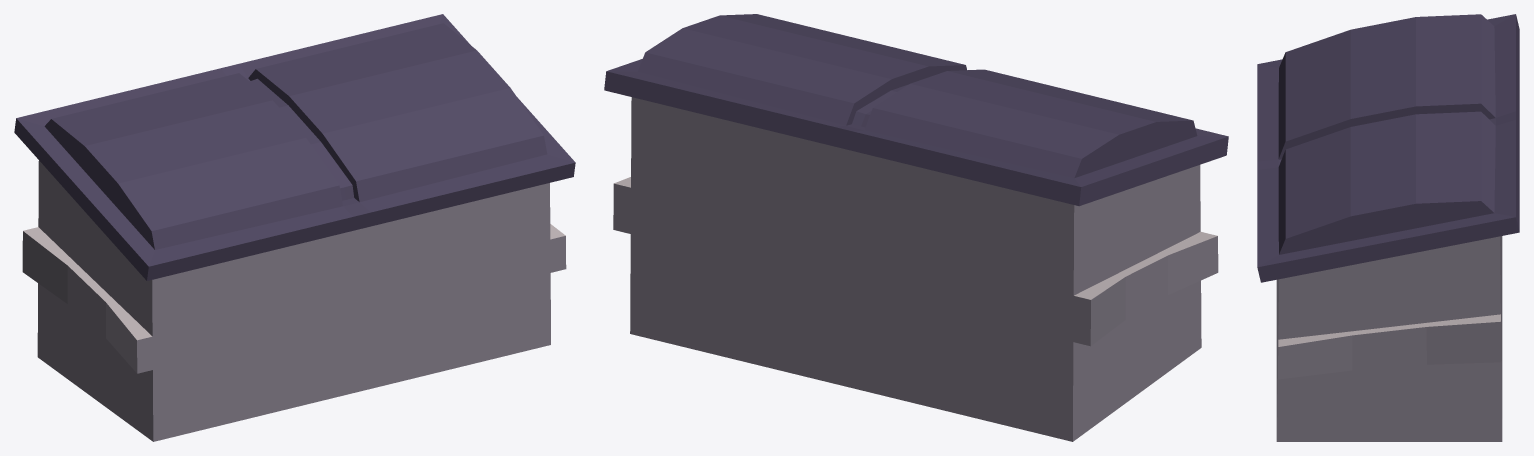
Rendered from DUMPSTER.fbx.
The picture shows the model from 3 angles, left to right: view 1: azimuth 30°, elevation 25°; view 2: azimuth 150°, elevation 25°; view 3: azimuth 270°, elevation 25°; orthographic projection. The views are drawn at different scales.
Visible parts, largest first — view 1: pCube1; view 2: pCube1; view 3: pCube1.
Part boxes in pixels (<box>): pCube1: <box>14,14,575,441</box>; pCube1: <box>604,14,1228,441</box>; pCube1: <box>1257,14,1519,441</box>.
Size of the model in its own units: 3.92 by 2.15 by 2.13.
